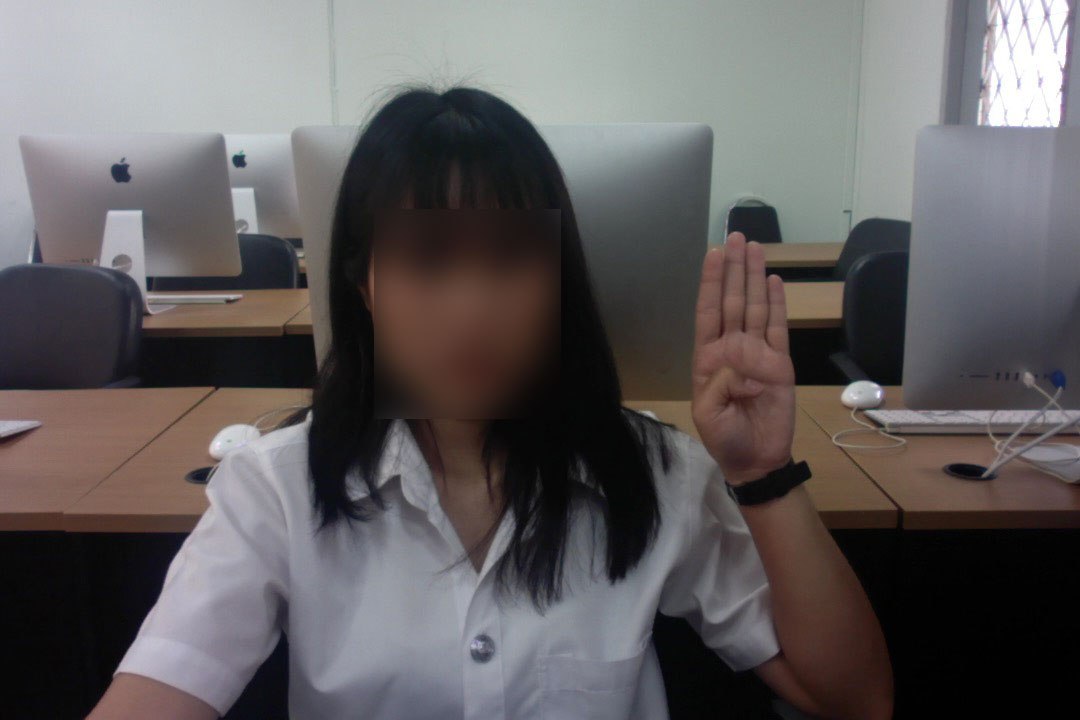bor: (684, 226, 802, 477)
